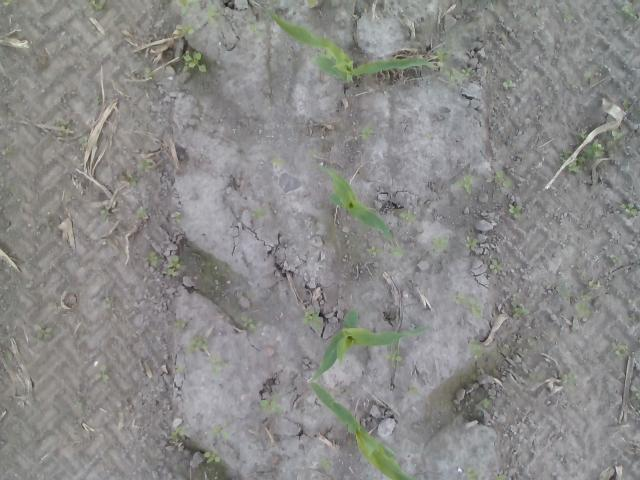Maize: (269, 11, 440, 82), (308, 377, 420, 480), (313, 304, 433, 377), (318, 160, 399, 243)
Weeds: (175, 0, 218, 24), (576, 280, 600, 318), (450, 292, 482, 320), (258, 392, 284, 416), (184, 50, 208, 72), (444, 66, 476, 82), (578, 142, 604, 161), (167, 254, 186, 278), (207, 423, 231, 440), (169, 424, 186, 447), (303, 310, 321, 330), (456, 175, 474, 194), (496, 170, 514, 188), (430, 234, 450, 250), (190, 336, 209, 352), (397, 209, 417, 224), (32, 323, 53, 337), (94, 364, 110, 382), (621, 202, 640, 216), (488, 258, 504, 274), (436, 46, 448, 66), (176, 23, 196, 35), (462, 465, 477, 480), (241, 315, 256, 330), (508, 204, 522, 220), (144, 251, 158, 267), (360, 126, 376, 140), (204, 451, 221, 464), (471, 337, 481, 359), (89, 0, 107, 12), (620, 4, 635, 18), (318, 458, 334, 471), (136, 204, 148, 220), (210, 358, 222, 374), (512, 306, 529, 316), (464, 236, 478, 248), (364, 246, 379, 257), (608, 253, 622, 264), (384, 352, 402, 360), (612, 130, 625, 141), (254, 207, 265, 220), (174, 318, 187, 329), (616, 344, 626, 358), (142, 157, 152, 171), (389, 246, 402, 256), (568, 162, 579, 173), (78, 134, 88, 146), (105, 296, 113, 310), (143, 66, 151, 80), (562, 372, 570, 386), (503, 78, 513, 89), (129, 174, 140, 184), (200, 261, 212, 270), (247, 22, 257, 32), (100, 207, 109, 218), (272, 159, 286, 166), (623, 98, 631, 110), (56, 122, 68, 130), (305, 0, 318, 7), (577, 130, 587, 139), (175, 366, 185, 375), (175, 212, 182, 224), (558, 152, 566, 162), (2, 0, 12, 7), (496, 474, 507, 480), (96, 96, 102, 106), (425, 132, 433, 138)
